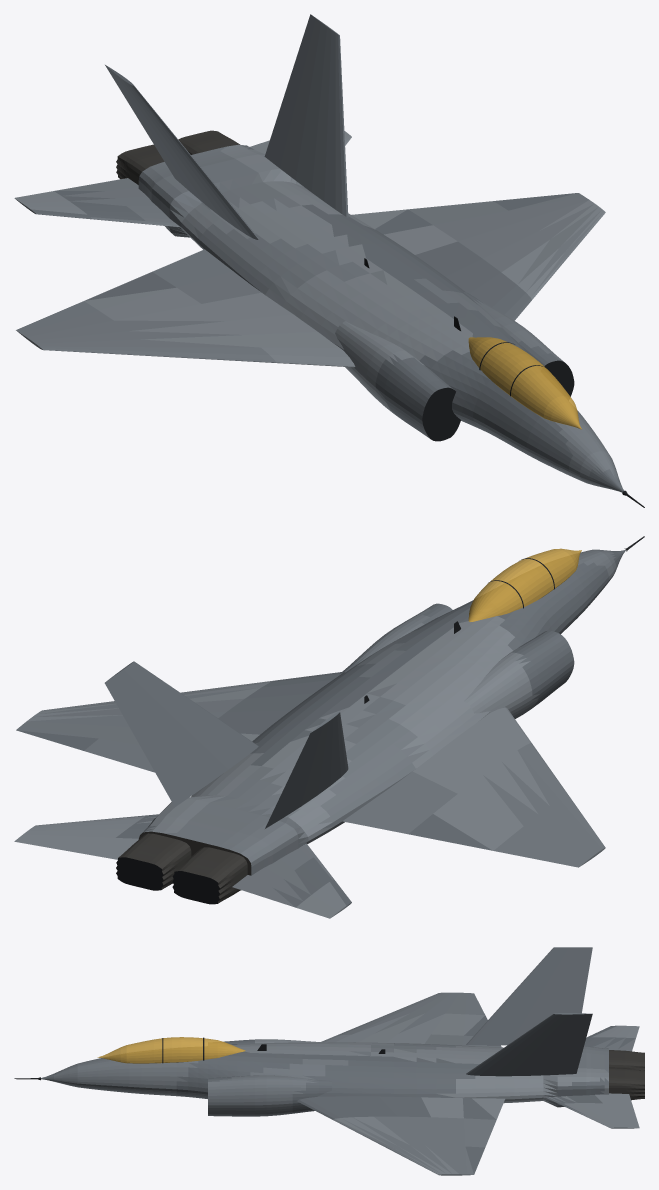
The picture shows the model from 3 angles, top to bottom: view 1: azimuth 30°, elevation 25°; view 2: azimuth 150°, elevation 25°; view 3: azimuth 270°, elevation 25°; orthographic projection. The views are drawn at different scales.
Visible parts, largest first — view 1: airframe, canopy; view 2: airframe, canopy; view 3: airframe, canopy.
Boxes of the visible parts, left/top/right/bottom form: airframe: left=14, top=14, right=644, bottom=507; canopy: left=468, top=337, right=581, bottom=429; airframe: left=14, top=536, right=644, bottom=918; canopy: left=468, top=548, right=581, bottom=621; airframe: left=14, top=947, right=644, bottom=1175; canopy: left=97, top=1037, right=245, bottom=1063.
Bounding box in the file's own units: 13.19 × 3.94 × 19.35.
